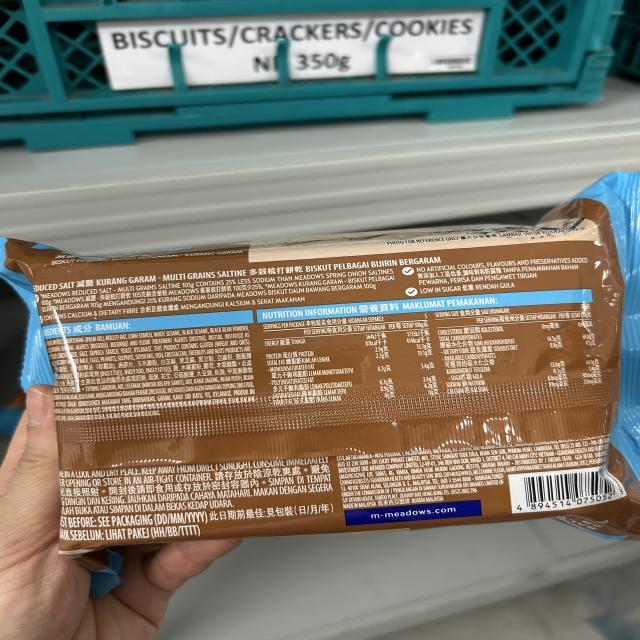object_name: (41, 256, 618, 515)
